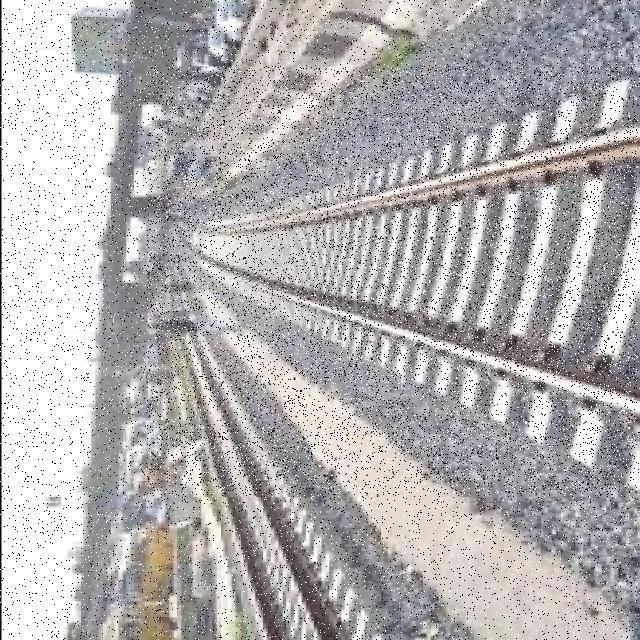rail: (148, 69, 638, 496), (173, 337, 388, 640)
